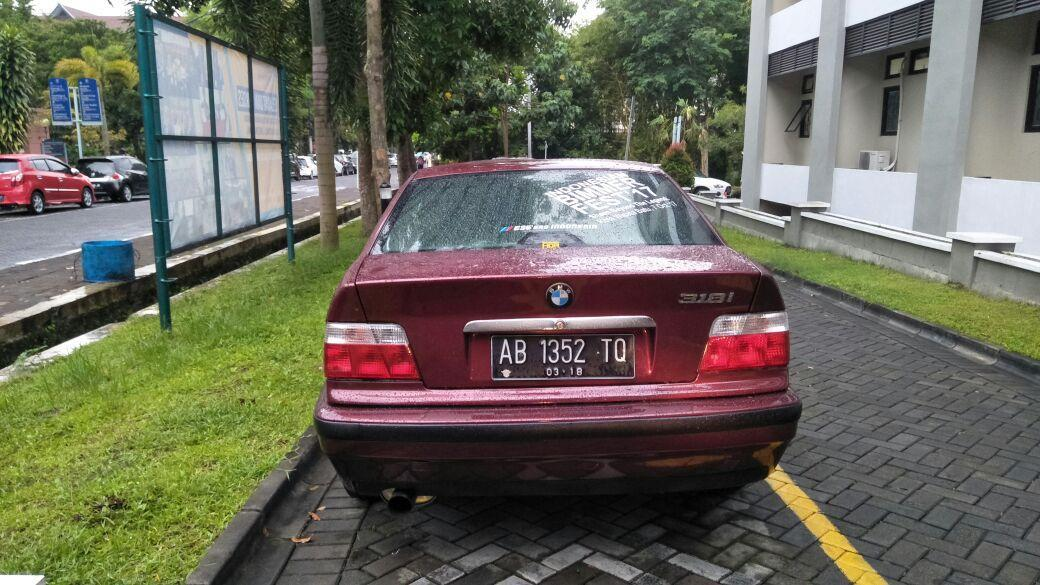clone-license-plate: (490, 332, 638, 380)
